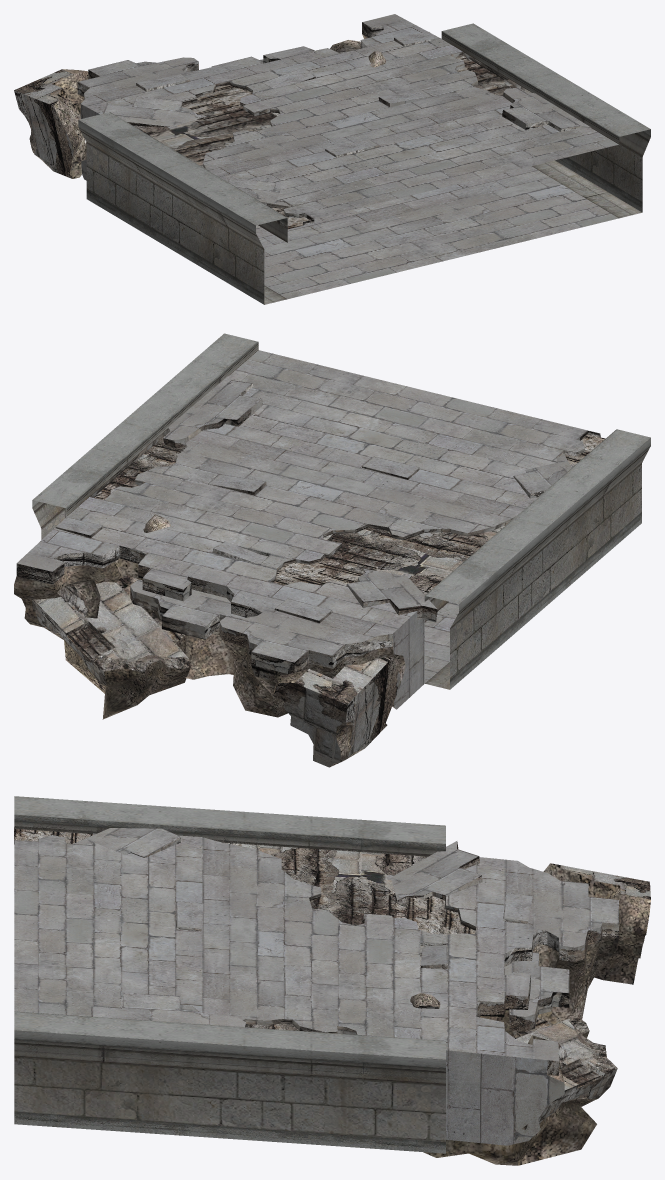
The model's file is StairEnd2.fbx.
3 renders of one model, top to bottom at view 1: azimuth 30°, elevation 25°; view 2: azimuth 150°, elevation 25°; view 3: azimuth 270°, elevation 25°, orthographic. The views are drawn at different scales.
Visible parts, largest first — view 1: LV_Nigratruis_Lower_CastleBridge_SM_HSH; view 2: LV_Nigratruis_Lower_CastleBridge_SM_HSH; view 3: LV_Nigratruis_Lower_CastleBridge_SM_HSH.
Boxes of the visible parts, left/top/right/bottom form: LV_Nigratruis_Lower_CastleBridge_SM_HSH: left=14, top=14, right=650, bottom=304; LV_Nigratruis_Lower_CastleBridge_SM_HSH: left=14, top=333, right=650, bottom=767; LV_Nigratruis_Lower_CastleBridge_SM_HSH: left=14, top=796, right=650, bottom=1165.
Bounding box in the file's own units: 2 × 0.7765 × 2.3.
4 materials, 4 textured.
